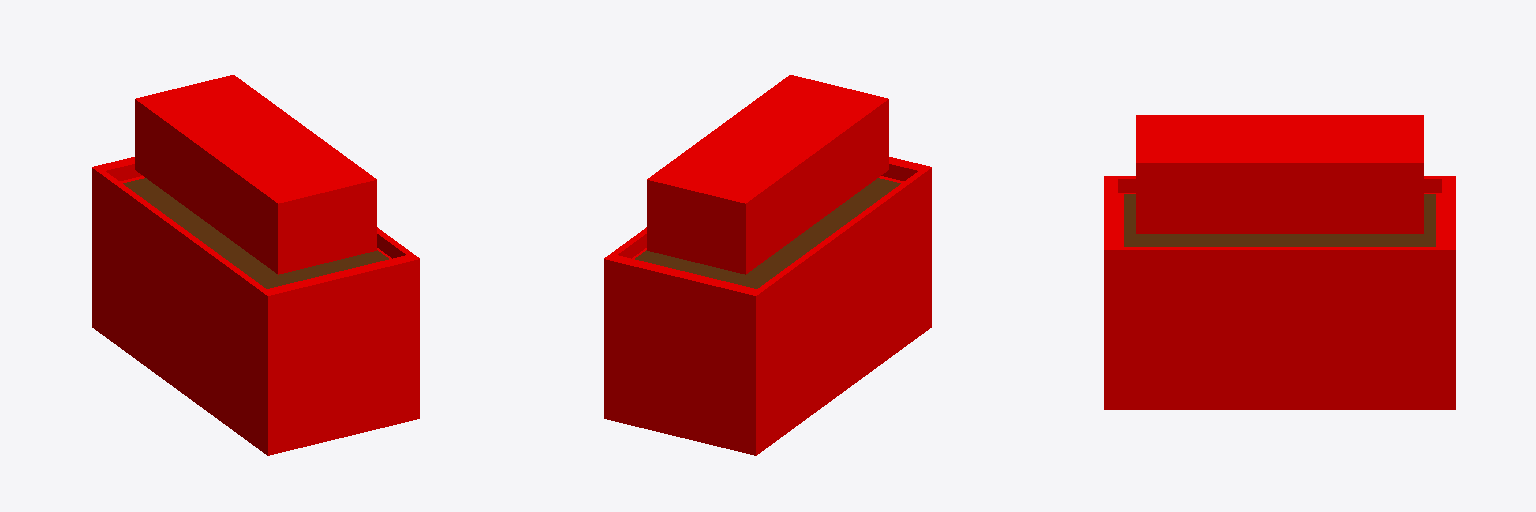
File: pottedHedge.obj
The picture shows the model from 3 angles: view 1: azimuth 30°, elevation 25°; view 2: azimuth 150°, elevation 25°; view 3: azimuth 270°, elevation 25°; orthographic projection.
Parts seen in each view (by area): view 1: Hedge1_Cube.010; view 2: Hedge1_Cube.010; view 3: Hedge1_Cube.010.
Boxes of the visible parts, x1,y1,x2,y2 form: Hedge1_Cube.010: [92, 75, 419, 455]; Hedge1_Cube.010: [604, 75, 931, 455]; Hedge1_Cube.010: [1104, 115, 1455, 409].
Bounding box in the file's own units: 0.25 × 0.3656 × 0.5.